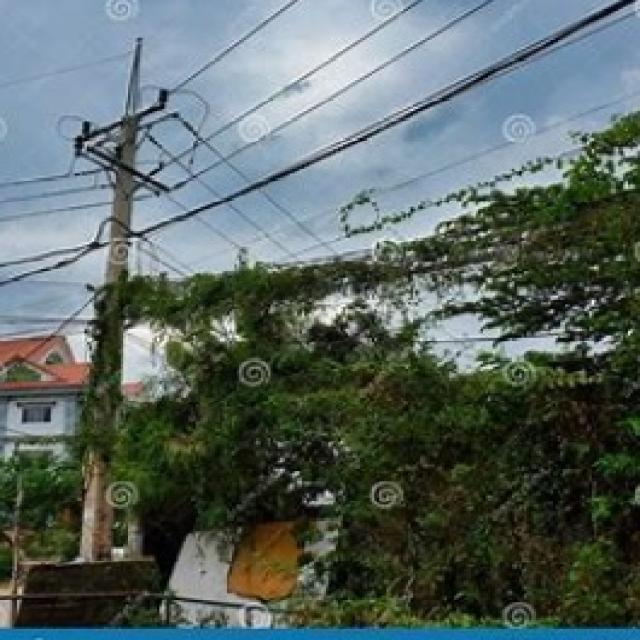critical vegetation: (99, 221, 636, 434)
